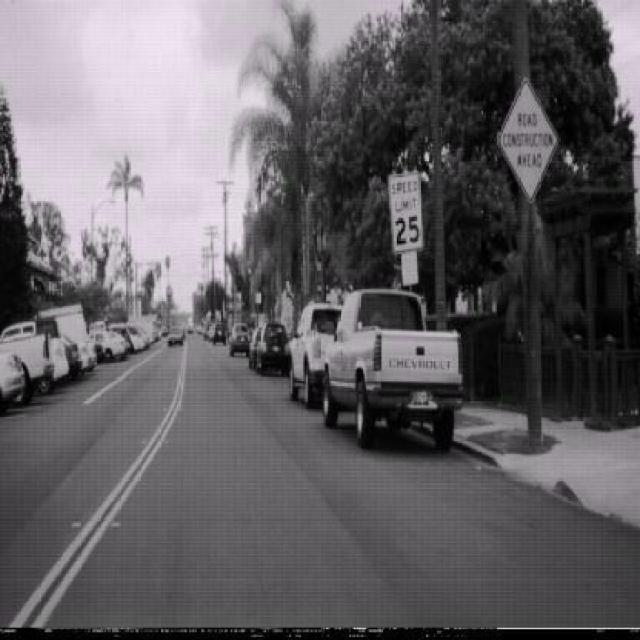speedLimit25: (386, 169, 424, 254)
